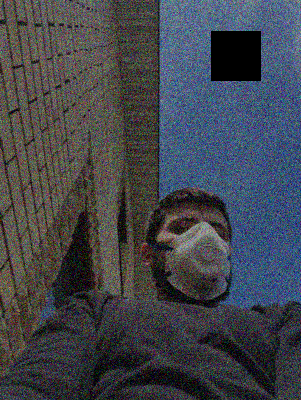with_mask: (157, 213, 233, 306)
